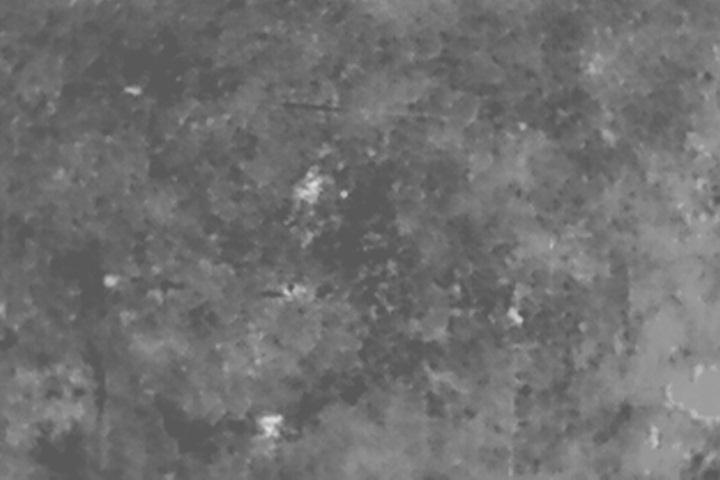landmine: (296, 167, 333, 205)
